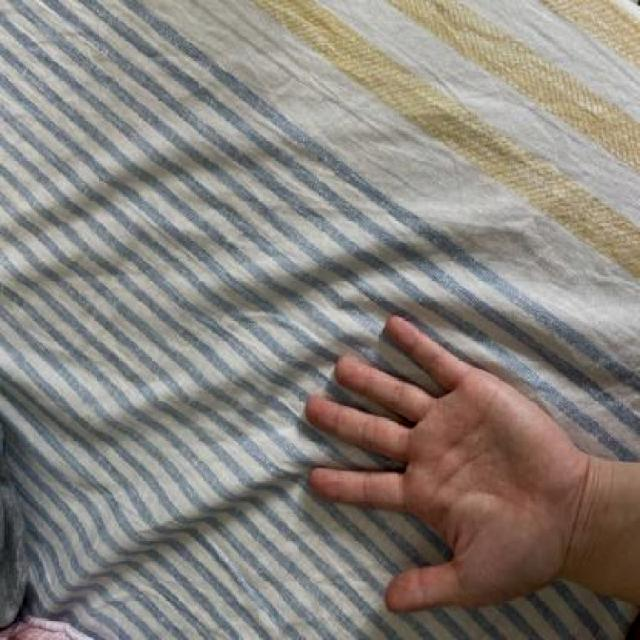no_glove: (294, 304, 603, 640)
